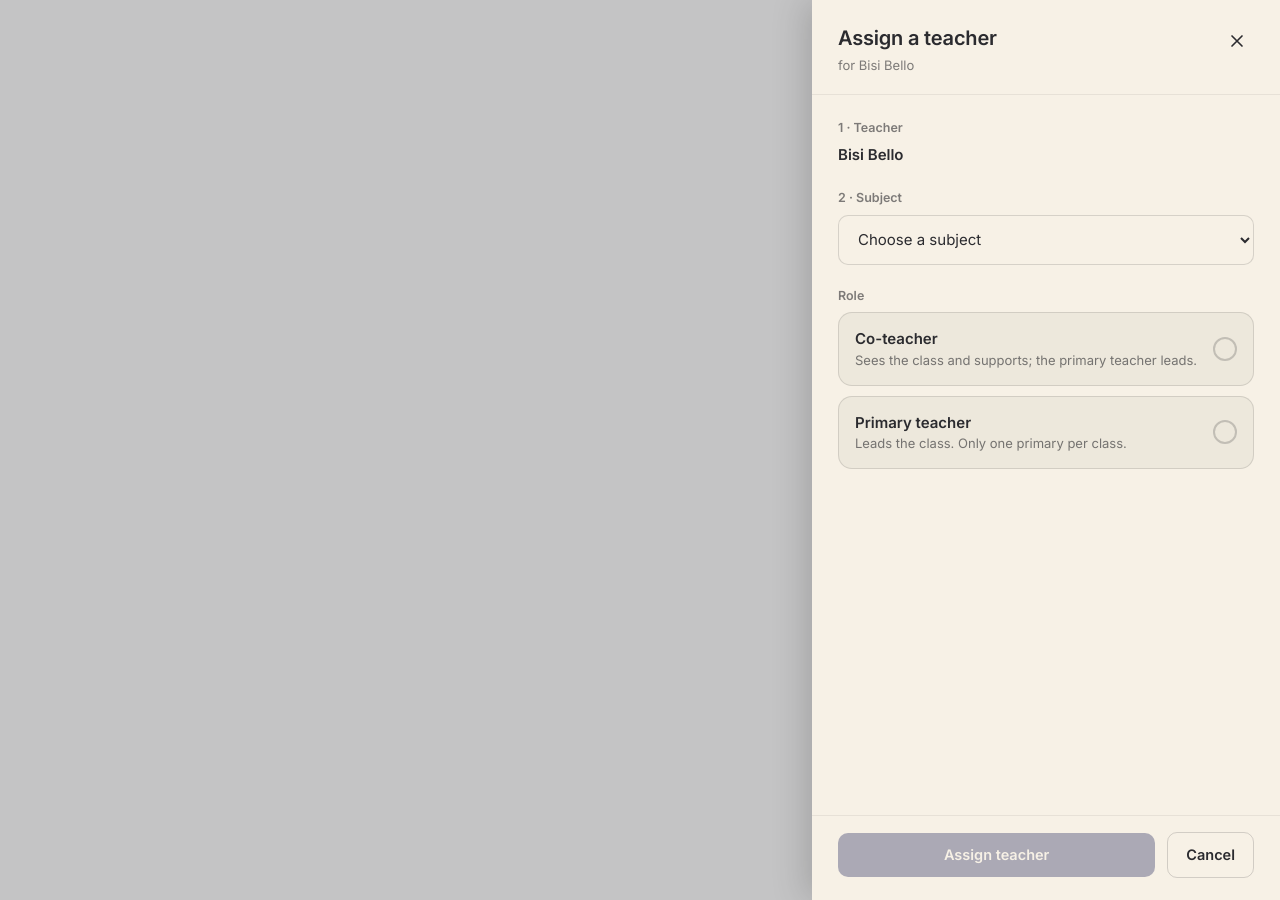
from the teacher's page › fixes the teacher and leaves out the classes they already hold
Expected: the text "Bisi Bello" is shown, [838,145,904,164]
Step 1. Select "Mathematics" in the dropdown labelled "2 · Subject" → {"x": 1046, "y": 240}, box [838,214,1254,264]
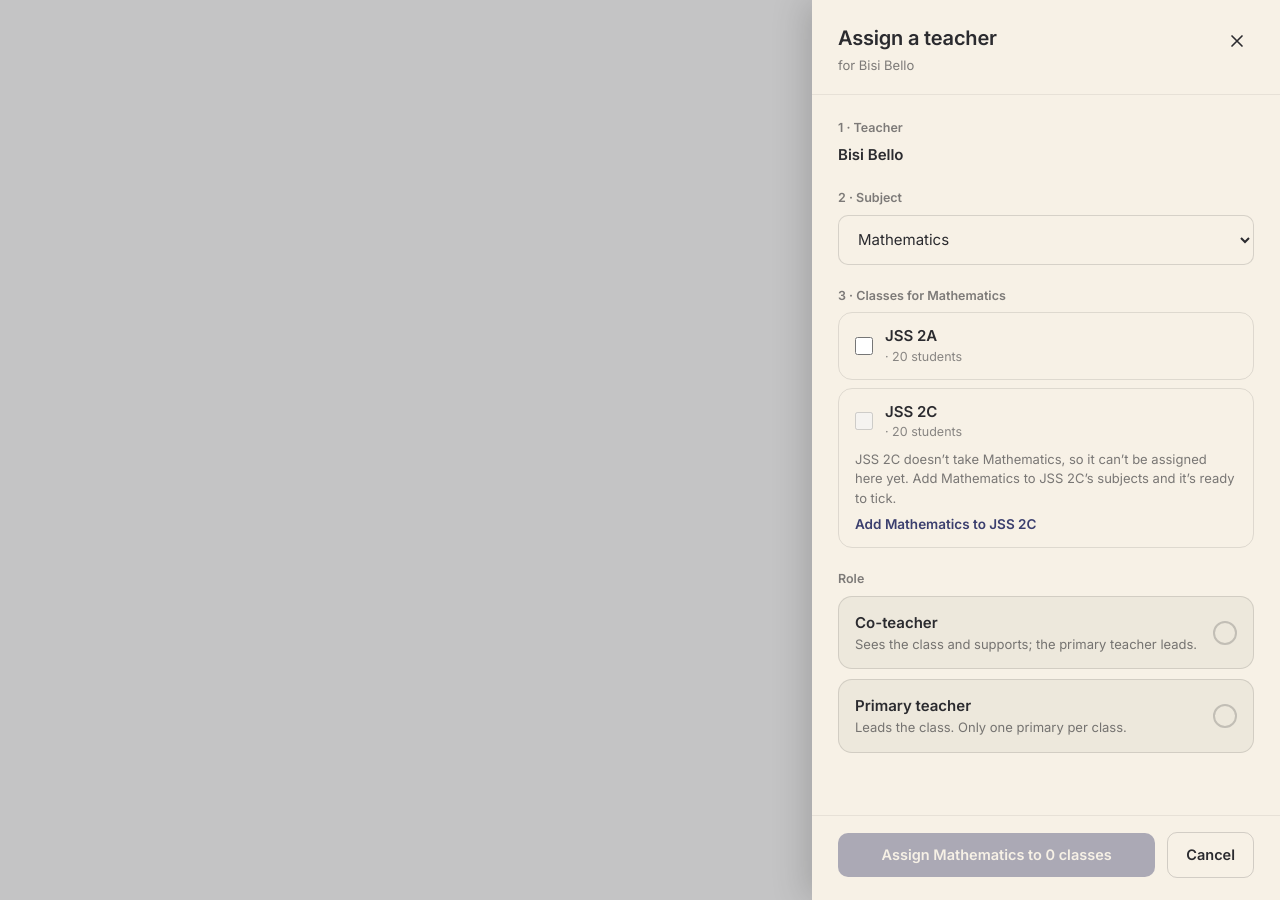
Expected: the text "JSS 2A" is shown, [885,326,937,345]
